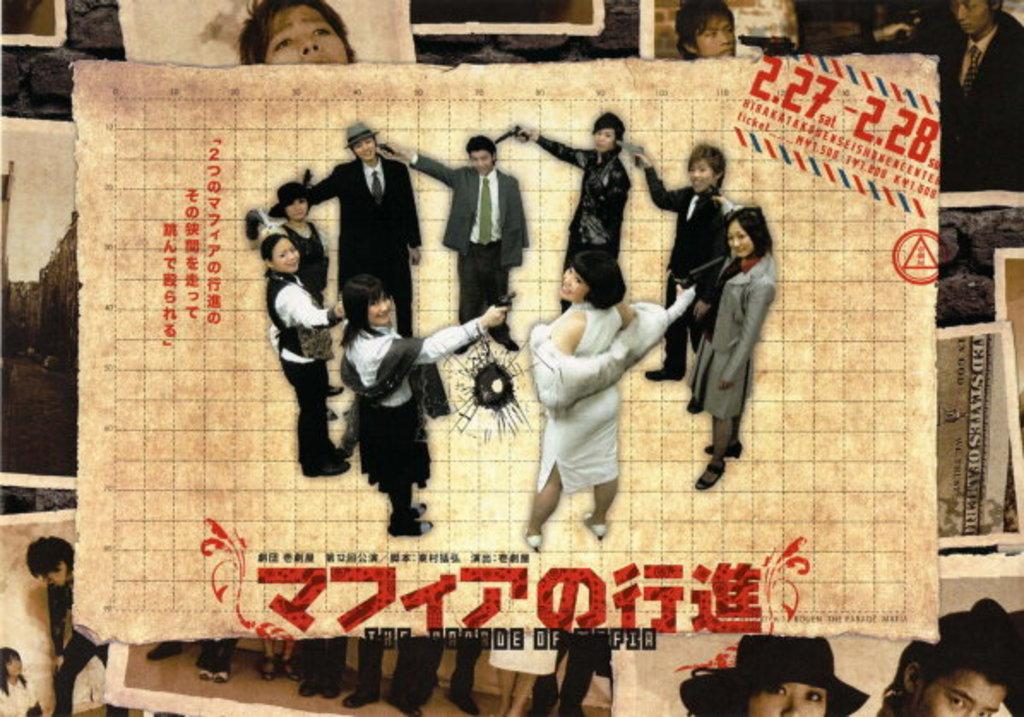Hat: (680, 633, 870, 715), (269, 178, 315, 217), (346, 122, 378, 148)
